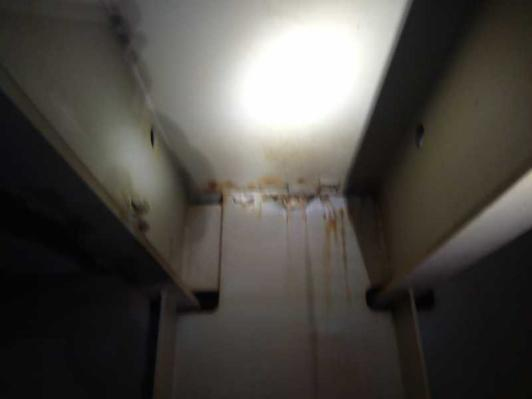corrosion: (212, 169, 352, 209), (307, 212, 361, 299)
